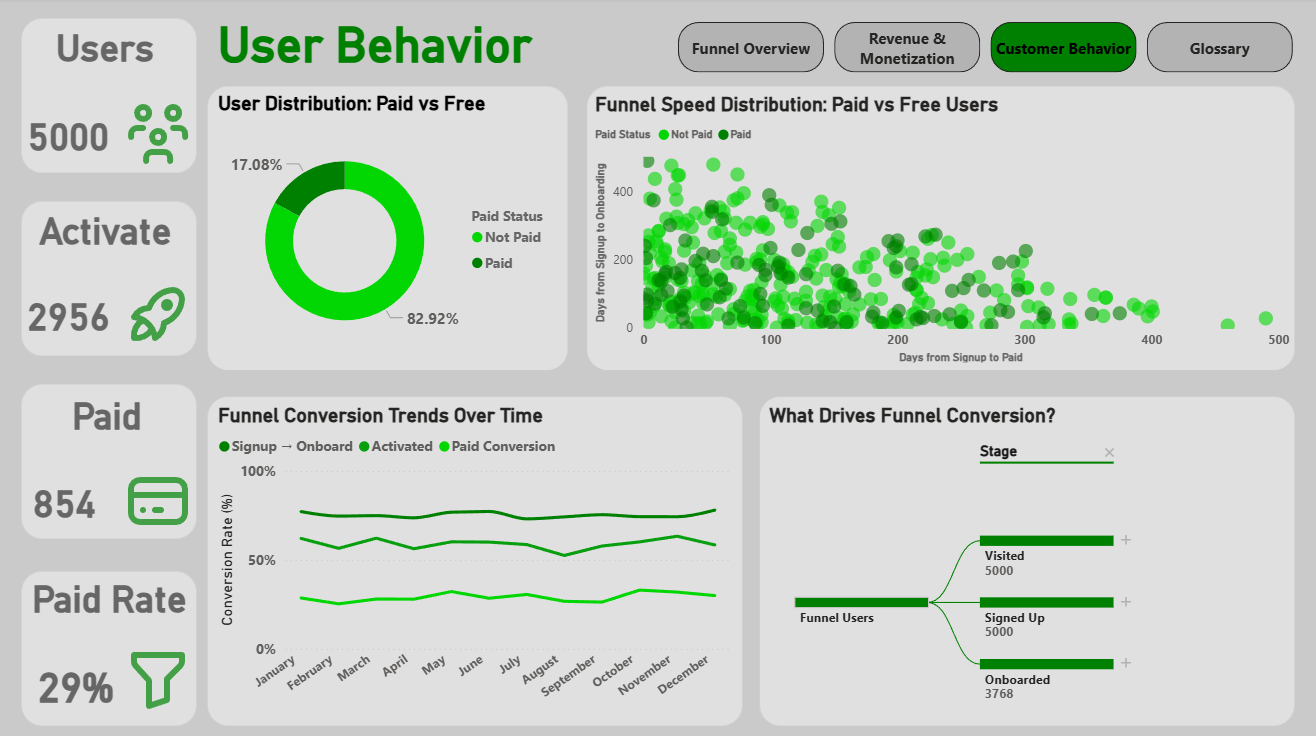

The dashboard page shown, as its layout file describes it:
{"tool":"powerbi","page":{"name":"Customer Behavior","canvas":[1280,720],"ordinal":2},"visuals":[{"type":"card","title":"ARPU","fields":{"Values":["_Measures.Total Users"]},"box":[15.6,108.9,101.2,46.7],"z":0},{"type":"card","title":"ARPU","fields":{"Values":["_Measures.Activated Users"]},"box":[12.6,279.1,108,56.4],"z":1000},{"type":"card","title":"ARPU","fields":{"Values":["_Measures.Paid Users"]},"box":[17.5,463,90.5,52.5],"z":2000},{"type":"card","title":"ARPU","fields":{"Values":["_Measures.Activation → Paid %"]},"box":[31.1,635.1,85.6,62.2],"z":3000},{"type":"textbox","title":"Users","box":[49.6,27.2,110.9,41.8],"z":4000},{"type":"textbox","title":"Activated","box":[33.1,205.2,152.7,41.8],"z":5000},{"type":"textbox","title":"Paid Users","box":[65.2,385.2,79.8,41.8],"z":6000},{"type":"textbox","title":"Paid Rate","box":[26.3,563.2,168.3,39.9],"z":7000},{"type":"donutChart","title":"User Distribution: Paid vs Free","fields":{"Category":["user_funnel.Paid Status"],"Y":["_Measures.Total Users"]},"box":[207.2,90.5,348.2,269.4],"z":8000},{"type":"scatterChart","title":"Funnel Speed Distribution: Paid vs Free Users","fields":{"Series":["user_funnel.Paid Status"],"Category":["user_funnel.user_id"],"Y":["Avg(user_funnel.days_onboarding_to_feature)"],"X":["Avg(user_funnel.days_signup_to_onboarding)"]},"box":[573.9,91.4,685.7,268.4],"z":9000},{"type":"lineChart","title":"Funnel Conversion Trends Over Time","fields":{"Y":["_Measures.Signup → Onboarding %","_Measures.Activation Rate","_Measures.Activation → Paid %"],"Category":["user_funnel.signup_date.Variation.Date Hierarchy.Month"]},"box":[207.2,393.9,507.7,307.4],"z":10000},{"type":"decompositionTreeVisual","title":"What Drives Funnel Conversion?","fields":{"ExplainBy":["Funnel Stages.Stage","user_funnel.Paid Status"],"Analyze":["Funnel Stages.Funnel Users"]},"box":[743.1,393.9,516.5,307.4],"z":11000},{"type":"image","box":[113.8,97.3,79.8,70],"z":12000},{"type":"image","box":[118.7,272.3,70,70],"z":13000},{"type":"image","box":[118.7,454.2,70,70],"z":14000},{"type":"image","box":[118.7,627.4,70,70],"z":15000},{"type":"textbox","title":"User Behavior","box":[207.2,17.5,324.9,51.6],"z":16000},{"type":"pageNavigator","box":[659.5,23.3,600.1,49.6],"z":17000}]}

Visuals, with their boxes in screenshot pixels (x1, y1, x2, y2), scaled from the page's 1280x720 canvas onto the 1316x736 screenshot:
"ARPU" card: (16,111,120,159)
"ARPU" card: (13,285,124,343)
"ARPU" card: (18,473,111,527)
"ARPU" card: (32,649,120,713)
"Users" textbox: (51,28,165,71)
"Activated" textbox: (34,210,191,252)
"Paid Users" textbox: (67,394,149,436)
"Paid Rate" textbox: (27,576,200,617)
"User Distribution: Paid vs Free" donutChart: (213,93,571,368)
"Funnel Speed Distribution: Paid vs Free Users" scatterChart: (590,93,1295,368)
"Funnel Conversion Trends Over Time" lineChart: (213,403,735,717)
"What Drives Funnel Conversion?" decompositionTreeVisual: (764,403,1295,717)
image: (117,99,199,171)
image: (122,278,194,350)
image: (122,464,194,536)
image: (122,641,194,713)
"User Behavior" textbox: (213,18,547,71)
pageNavigator: (678,24,1295,75)
